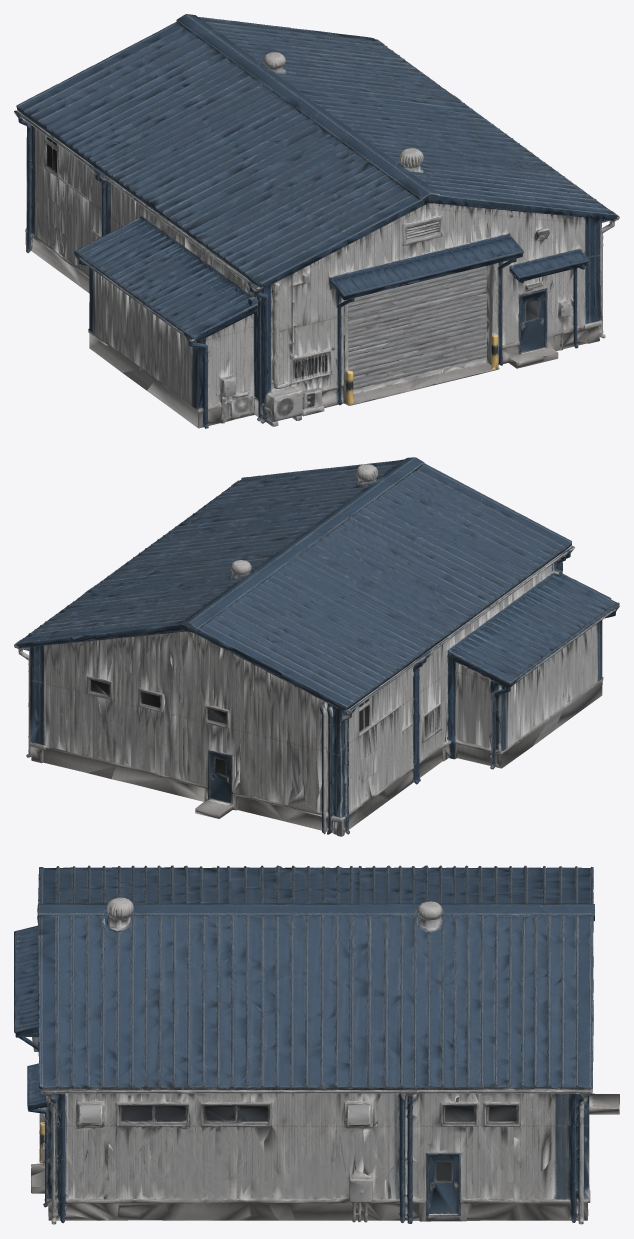
Rendered from building_warehouse_small_model.glb.
3 views of the same model, one above another, from view 1: azimuth 30°, elevation 25°; view 2: azimuth 150°, elevation 25°; view 3: azimuth 270°, elevation 25° (orthographic). The views are drawn at different scales.
Visible parts, largest first — view 1: Mesh_0.003; view 2: Mesh_0.003; view 3: Mesh_0.003.
Boxes of the visible parts, x1,y1,x2,y2 form: Mesh_0.003: (14, 14, 619, 428); Mesh_0.003: (14, 457, 619, 836); Mesh_0.003: (14, 865, 619, 1224).
Size of the model in its own units: 12.85 by 6 by 14.1.
Materials: 1 (1 with a texture image).
